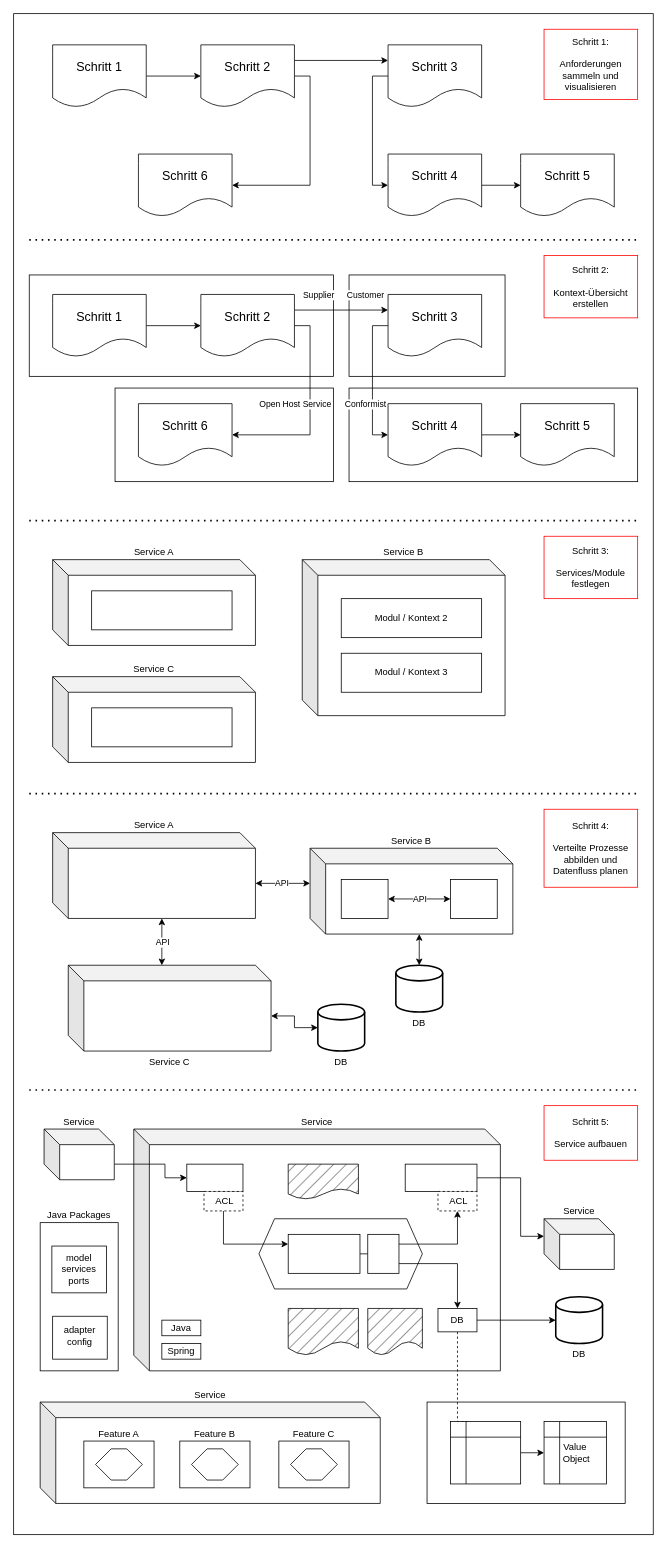
The diagram is 667 pixels wide and 1548 high, and some of its shapes have lost their labels. The box of each missing label's shape, as (x1, y1, x2, y2) in pixels:
Aggregate: (426, 1401, 625, 1503)
API (in): (186, 1163, 243, 1191)
API (out): (404, 1163, 477, 1191)
Business: (287, 1234, 360, 1273)
DB- Modell: (367, 1308, 422, 1355)
domain: (51, 1245, 106, 1293)
Domänen-Modell: (287, 1308, 358, 1355)
DTO: (287, 1163, 358, 1199)
infra: (52, 1315, 107, 1359)
Inter- faces: (367, 1234, 399, 1273)
Kontext 1: (91, 590, 232, 630)
Kontext 1 (Core): (28, 274, 333, 376)
Kontext 2 (Supporting): (348, 274, 505, 376)
Kontext 3 (Supporting): (348, 387, 638, 482)
Kontext 4: (91, 707, 232, 747)
Kontext 4 (Generic): (114, 387, 333, 482)
Root- Entity: (450, 1421, 521, 1484)
